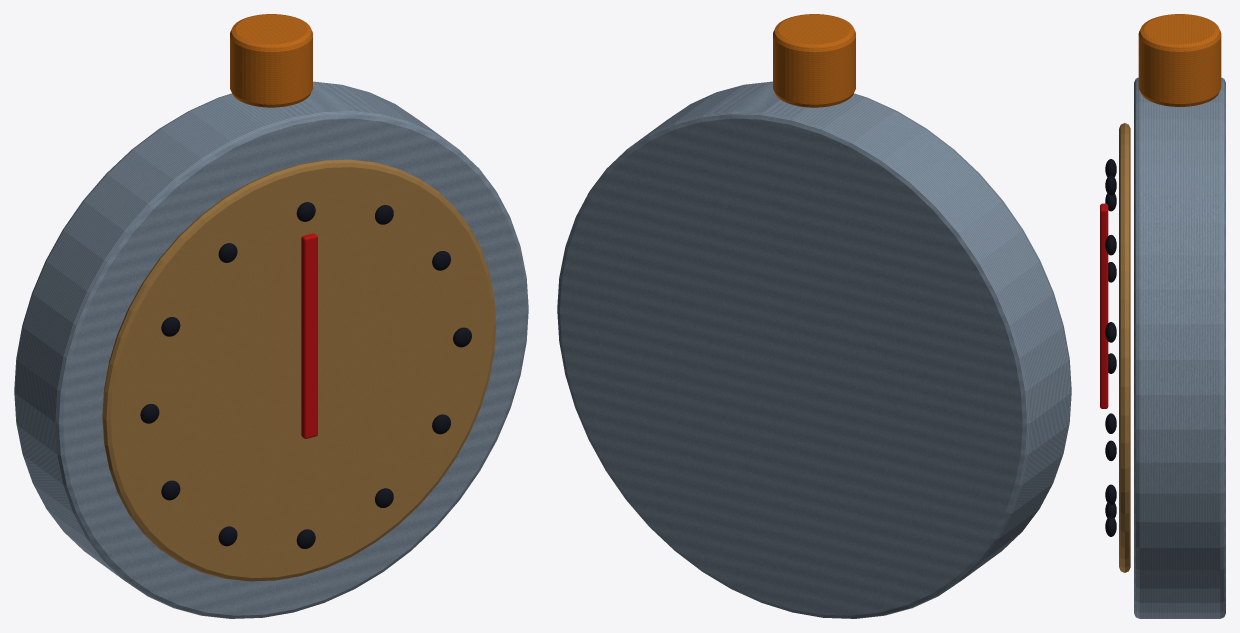
File: chronometre-suisse.glb
3 views of the same model, side by side, from view 1: azimuth 30°, elevation 25°; view 2: azimuth 150°, elevation 25°; view 3: azimuth 270°, elevation 25° (orthographic).
Parts seen in each view (by area): view 1: Cadran, Boitier, Couronne, Aiguille; view 2: Boitier, Couronne; view 3: Boitier, Couronne, Cadran, Aiguille, Index.004, Index.002, Index.005, Index, Index.003, Index.001, Index.007.
Part boxes in pixels (x1=…): Cadran: x1=102, y1=159, x2=496, y2=581; Boitier: x1=14, y1=81, x2=528, y2=618; Couronne: x1=230, y1=14, x2=312, y2=107; Aiguille: x1=301, y1=233, x2=317, y2=438; Boitier: x1=557, y1=81, x2=1071, y2=618; Couronne: x1=773, y1=14, x2=855, y2=107; Boitier: x1=1134, y1=77, x2=1225, y2=618; Couronne: x1=1138, y1=14, x2=1221, y2=106; Cadran: x1=1119, y1=123, x2=1130, y2=572; Aiguille: x1=1100, y1=203, x2=1108, y2=408; Index.004: x1=1105, y1=484, x2=1116, y2=505; Index.002: x1=1105, y1=322, x2=1116, y2=342; Index.005: x1=1105, y1=516, x2=1116, y2=536; Index: x1=1105, y1=175, x2=1116, y2=195; Index.003: x1=1105, y1=413, x2=1116, y2=433; Index.001: x1=1105, y1=235, x2=1116, y2=255; Index.007: x1=1105, y1=440, x2=1116, y2=460.
Size of the model in its own units: 2.36 by 2.71 by 0.548.
5 materials, 5 textured.
